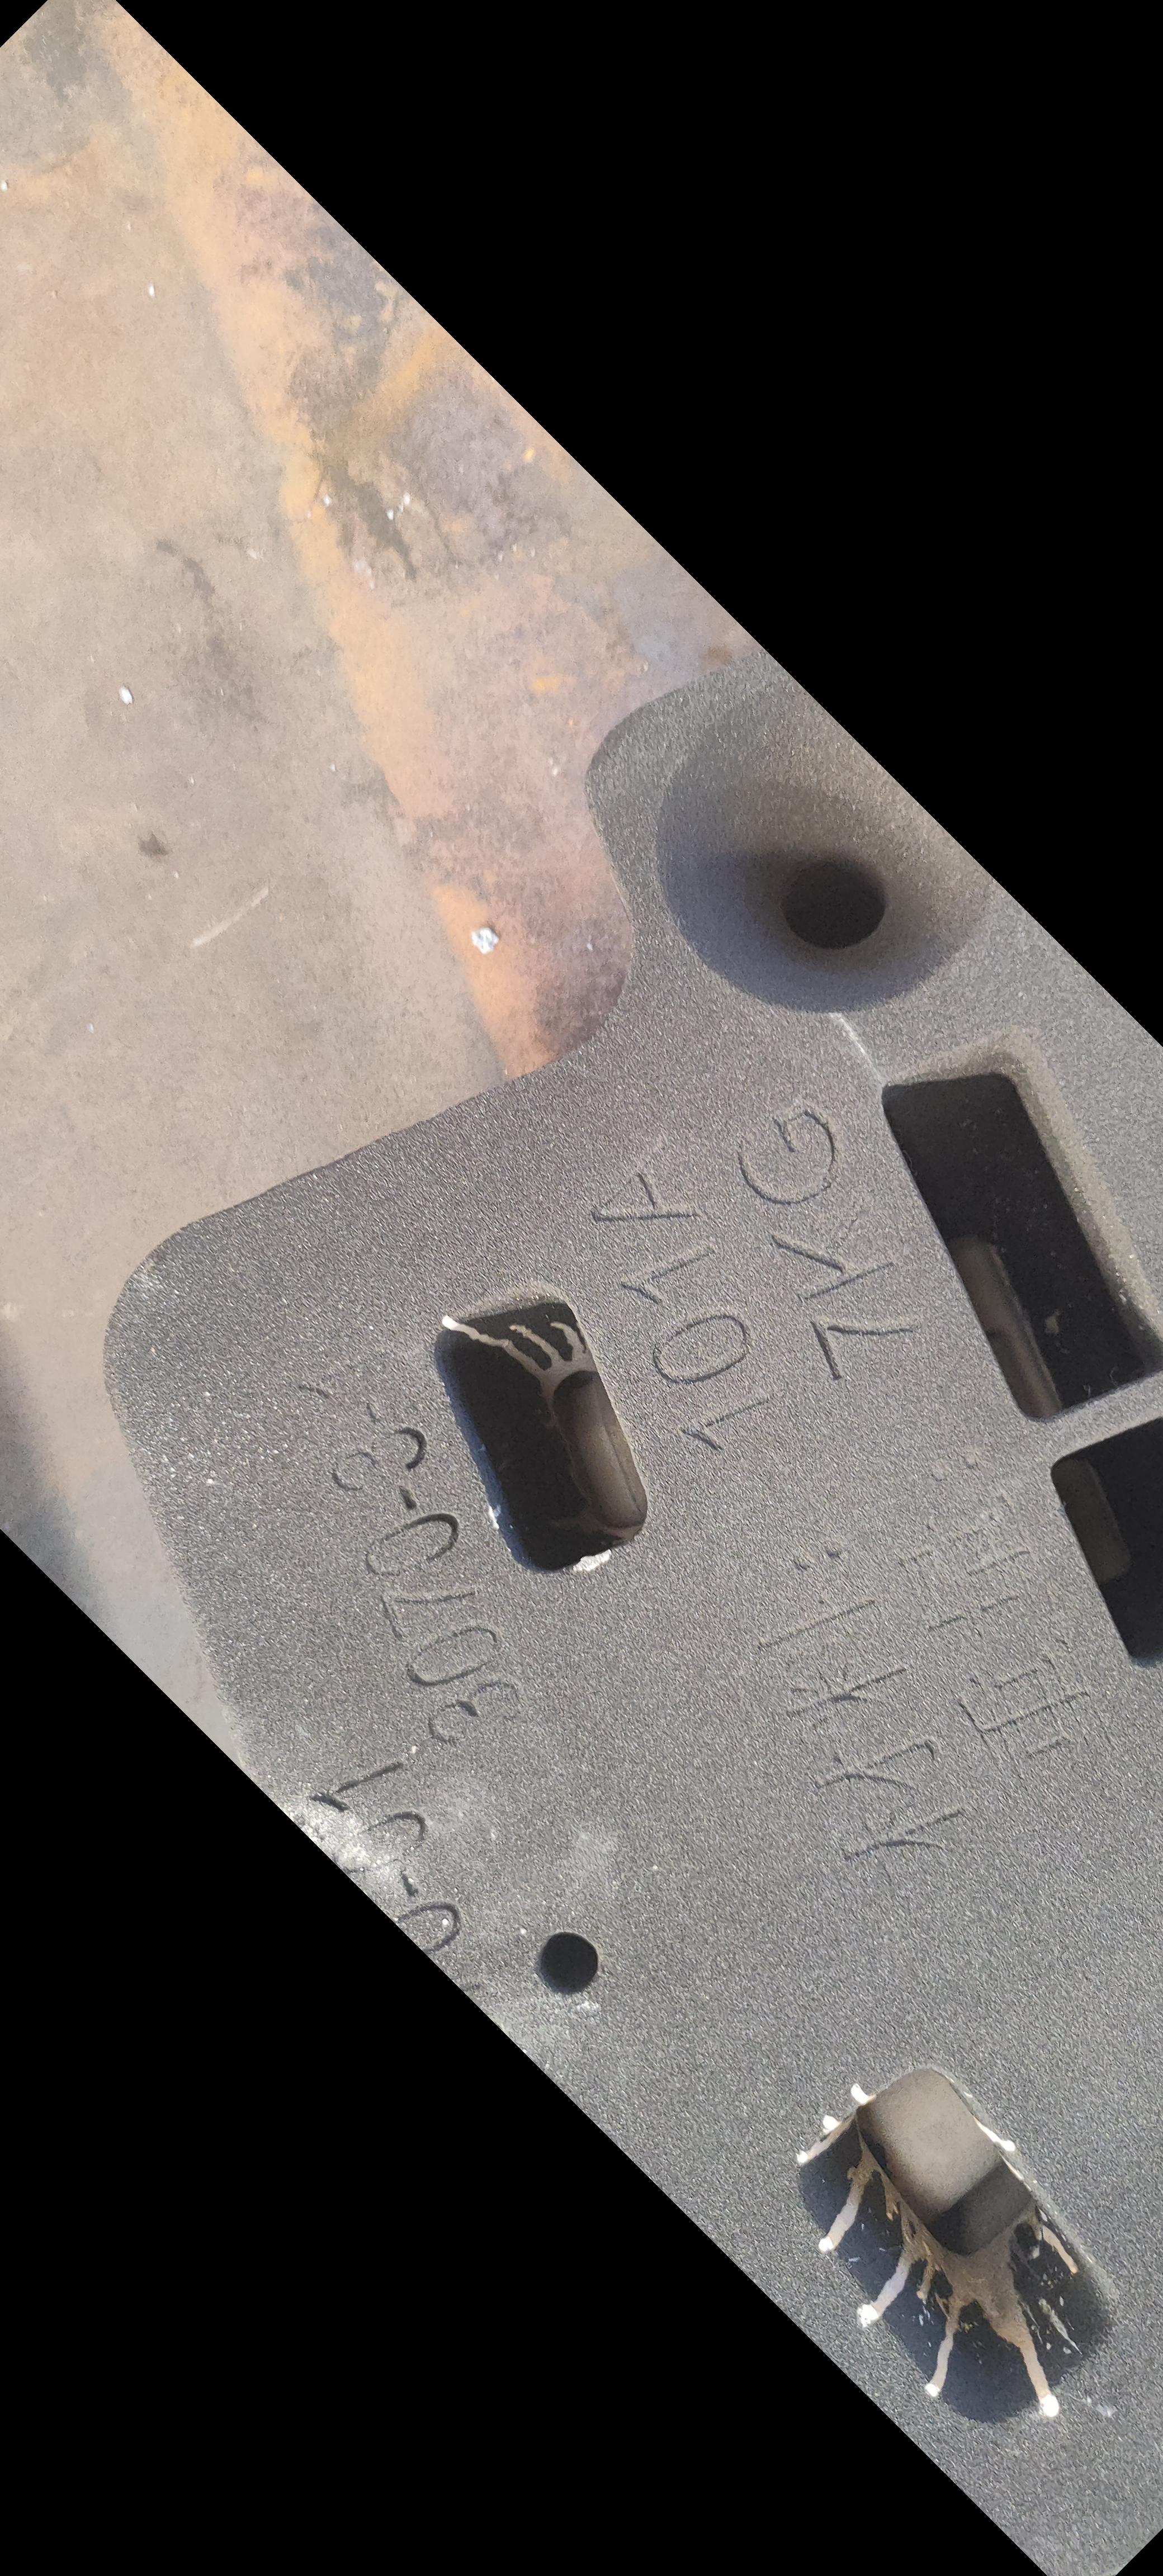pouring hole: (655, 669, 997, 1012)
